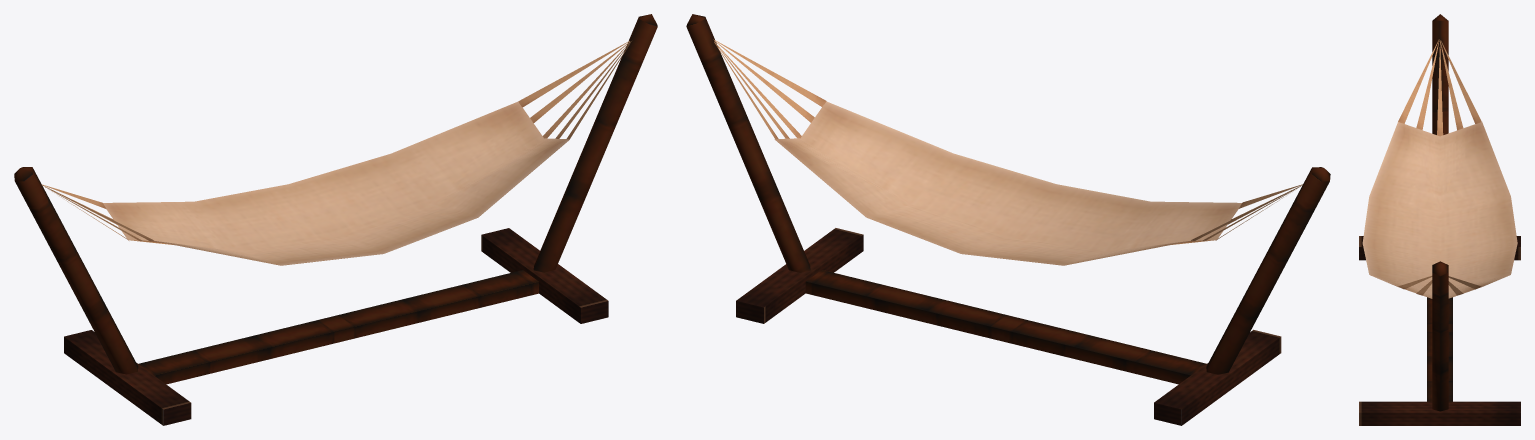
Rendered from Hammock_01.fbx.
3 renders of one model, left to right at view 1: azimuth 30°, elevation 25°; view 2: azimuth 150°, elevation 25°; view 3: azimuth 270°, elevation 25°, orthographic. The views are drawn at different scales.
Visible parts, largest first — view 1: Hammock_01; view 2: Hammock_01; view 3: Hammock_01.
Part boxes in pixels (left/top/right/bottom): Hammock_01: left=14, top=14, right=657, bottom=425; Hammock_01: left=686, top=14, right=1330, bottom=425; Hammock_01: left=1359, top=14, right=1520, bottom=425.
Size of the model in its own units: 90.66 by 32.9 by 24.34.
